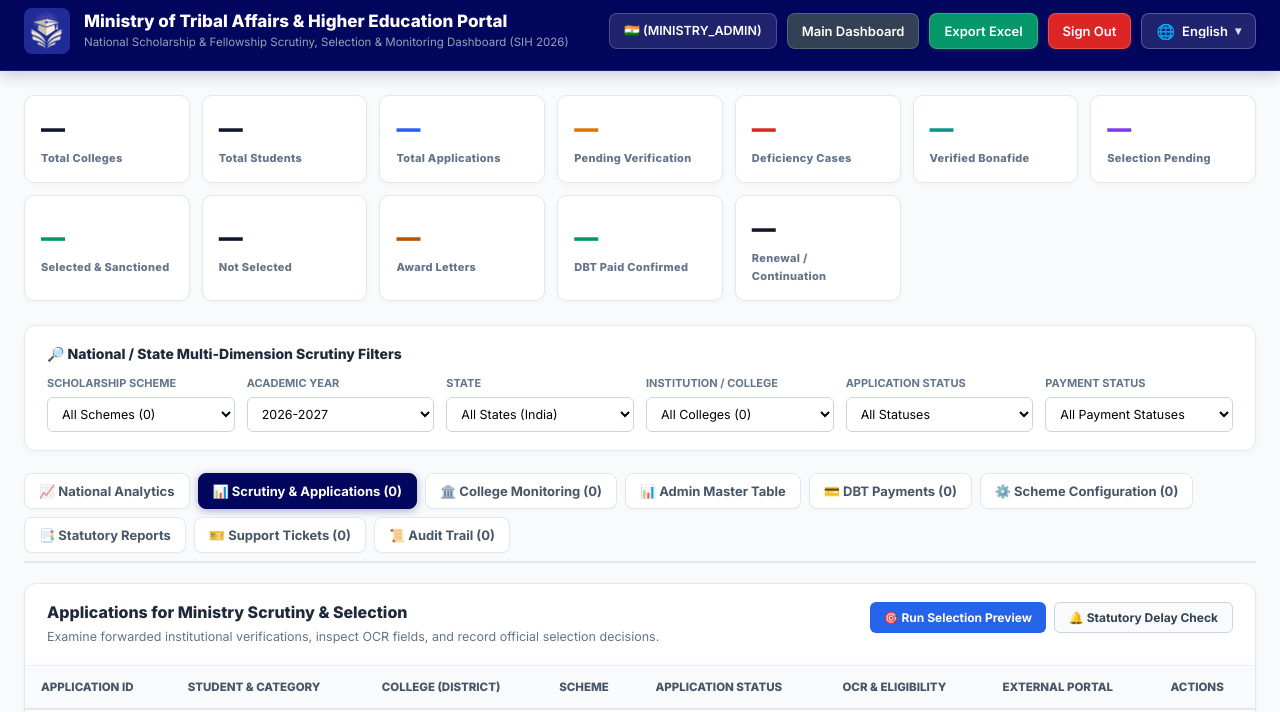
Test case: MinistryDashboard Analytics & Formatting Verification (SIH26239) › Scenario 1: Normal API response renders formatted currency and numbers without crashing
# Switch to National Analytics tab
Click the button "📈 National Analytics": (107, 491) [24, 473, 190, 509]
(page scrolled)
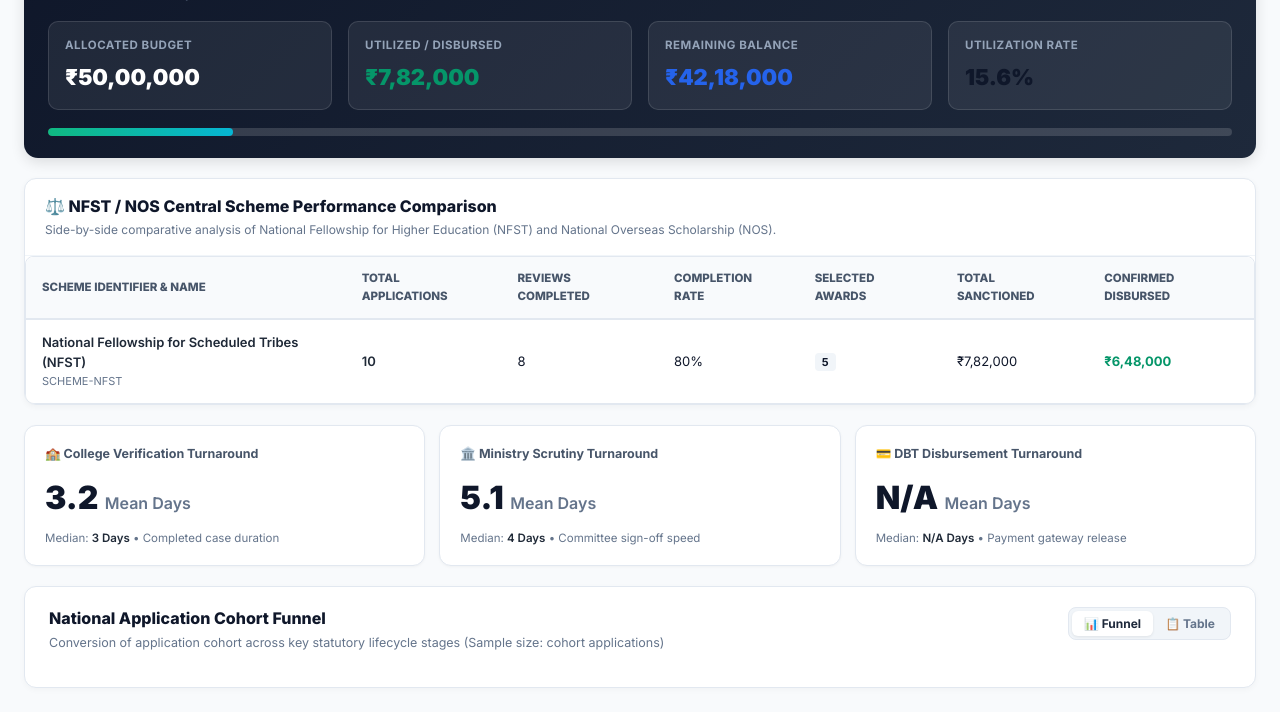
Expected: the text "National Fellowship for Scheduled Tribes (NFST)" is shown, [42, 334, 298, 370]
